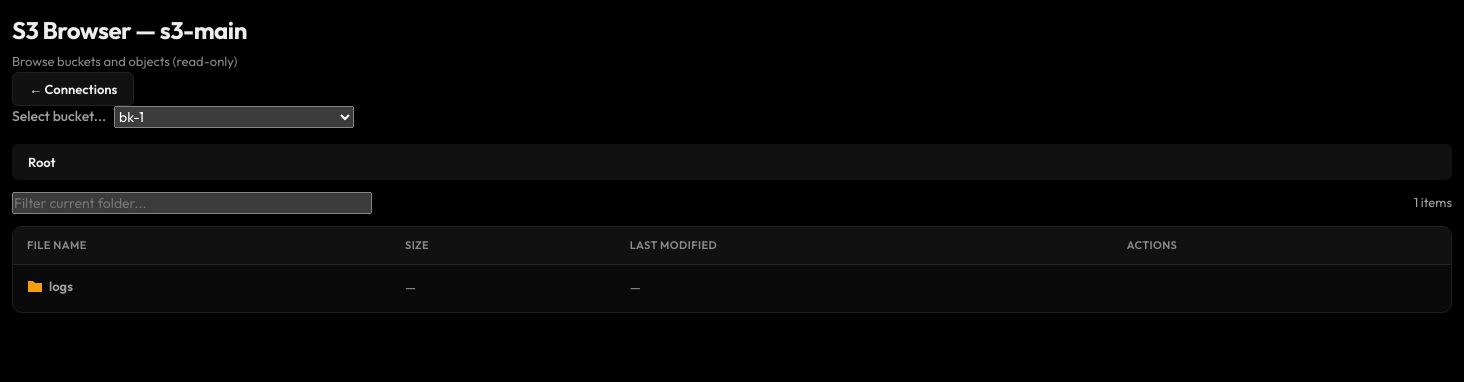
S3Browser page › navigates into a folder via click
Expected: the icon "logs" is shown, [27,276,73,296]
Click the button with aria-label "Open folder logs" at (61, 286), box [13,264,1451,312]
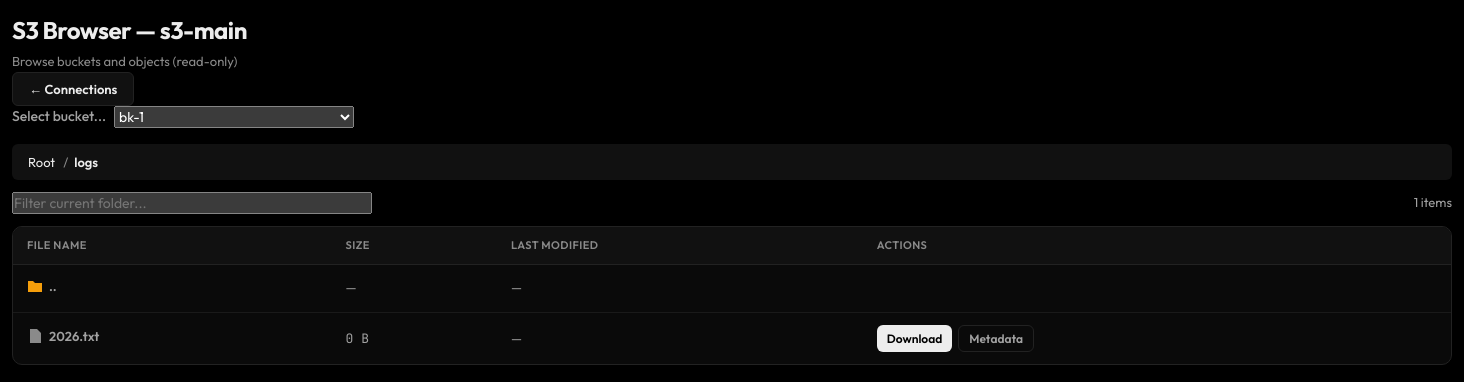
Expected: the navigation bar named "S3 path" is shown, [12,144,1452,180]
Expected: the text "2026.txt" is shown, [27,327,99,346]
